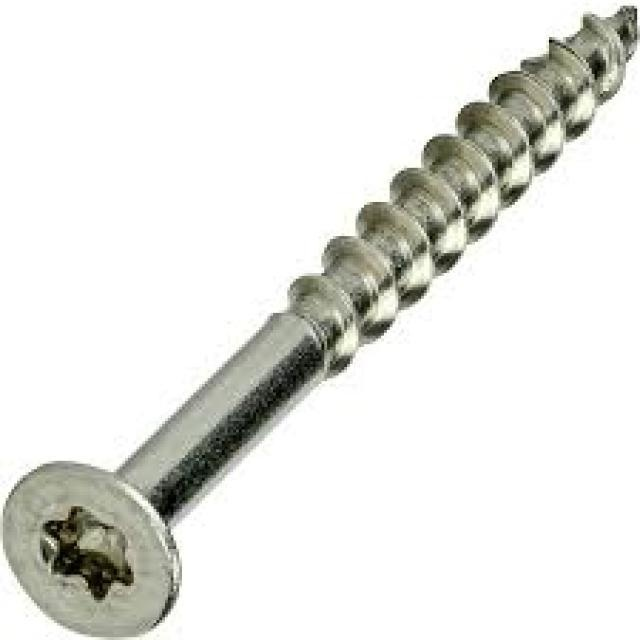torx: (1, 460, 181, 640)
